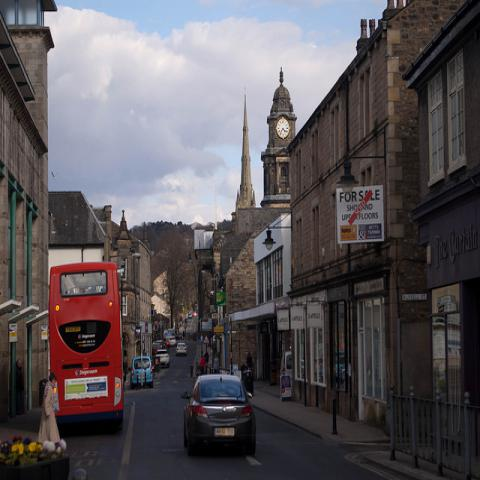bus: (48, 260, 125, 430)
car: (181, 374, 257, 458), (130, 356, 153, 389), (154, 349, 170, 367), (171, 342, 188, 357), (168, 336, 178, 347), (188, 313, 192, 318), (192, 312, 194, 316)
